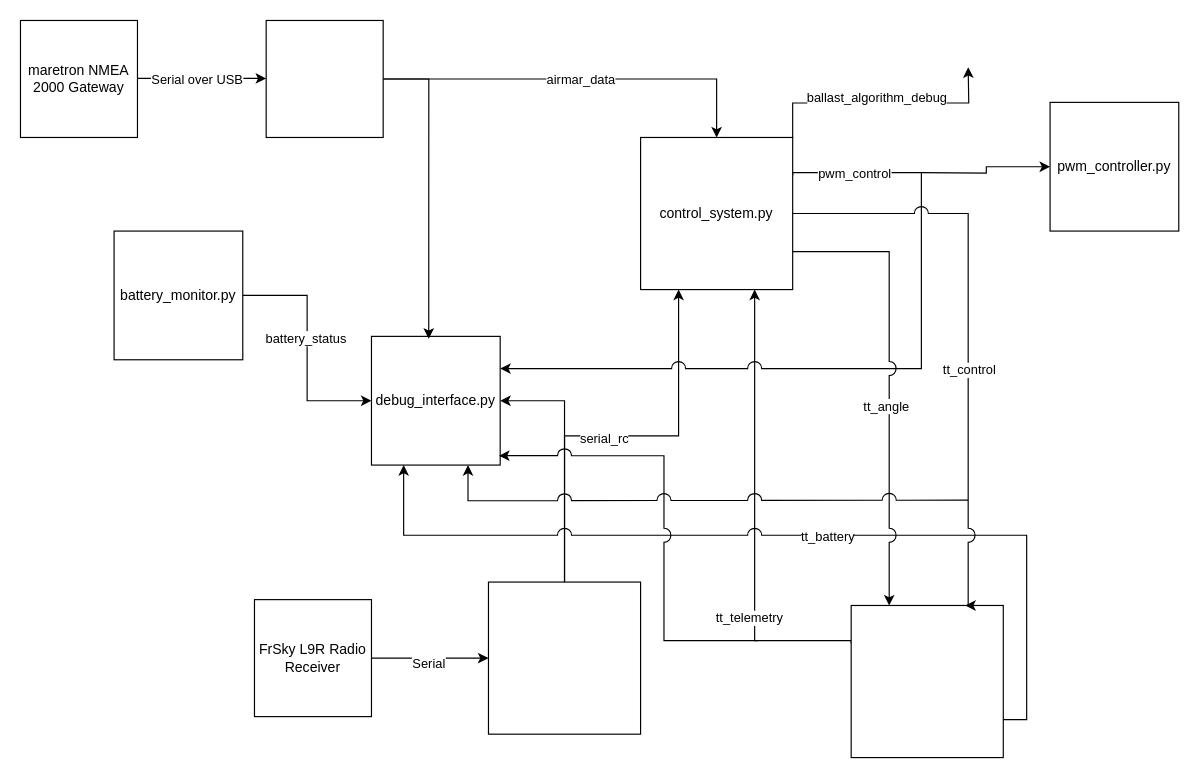
This 1199x778 diagram has some shape labels left out. Each missing label, with the centre of its shape:
airmar_reader.py: the point at 324,78
serial_rc_receiver.py: the point at 564,657
trim_tab_comms.py: the point at 926,681
